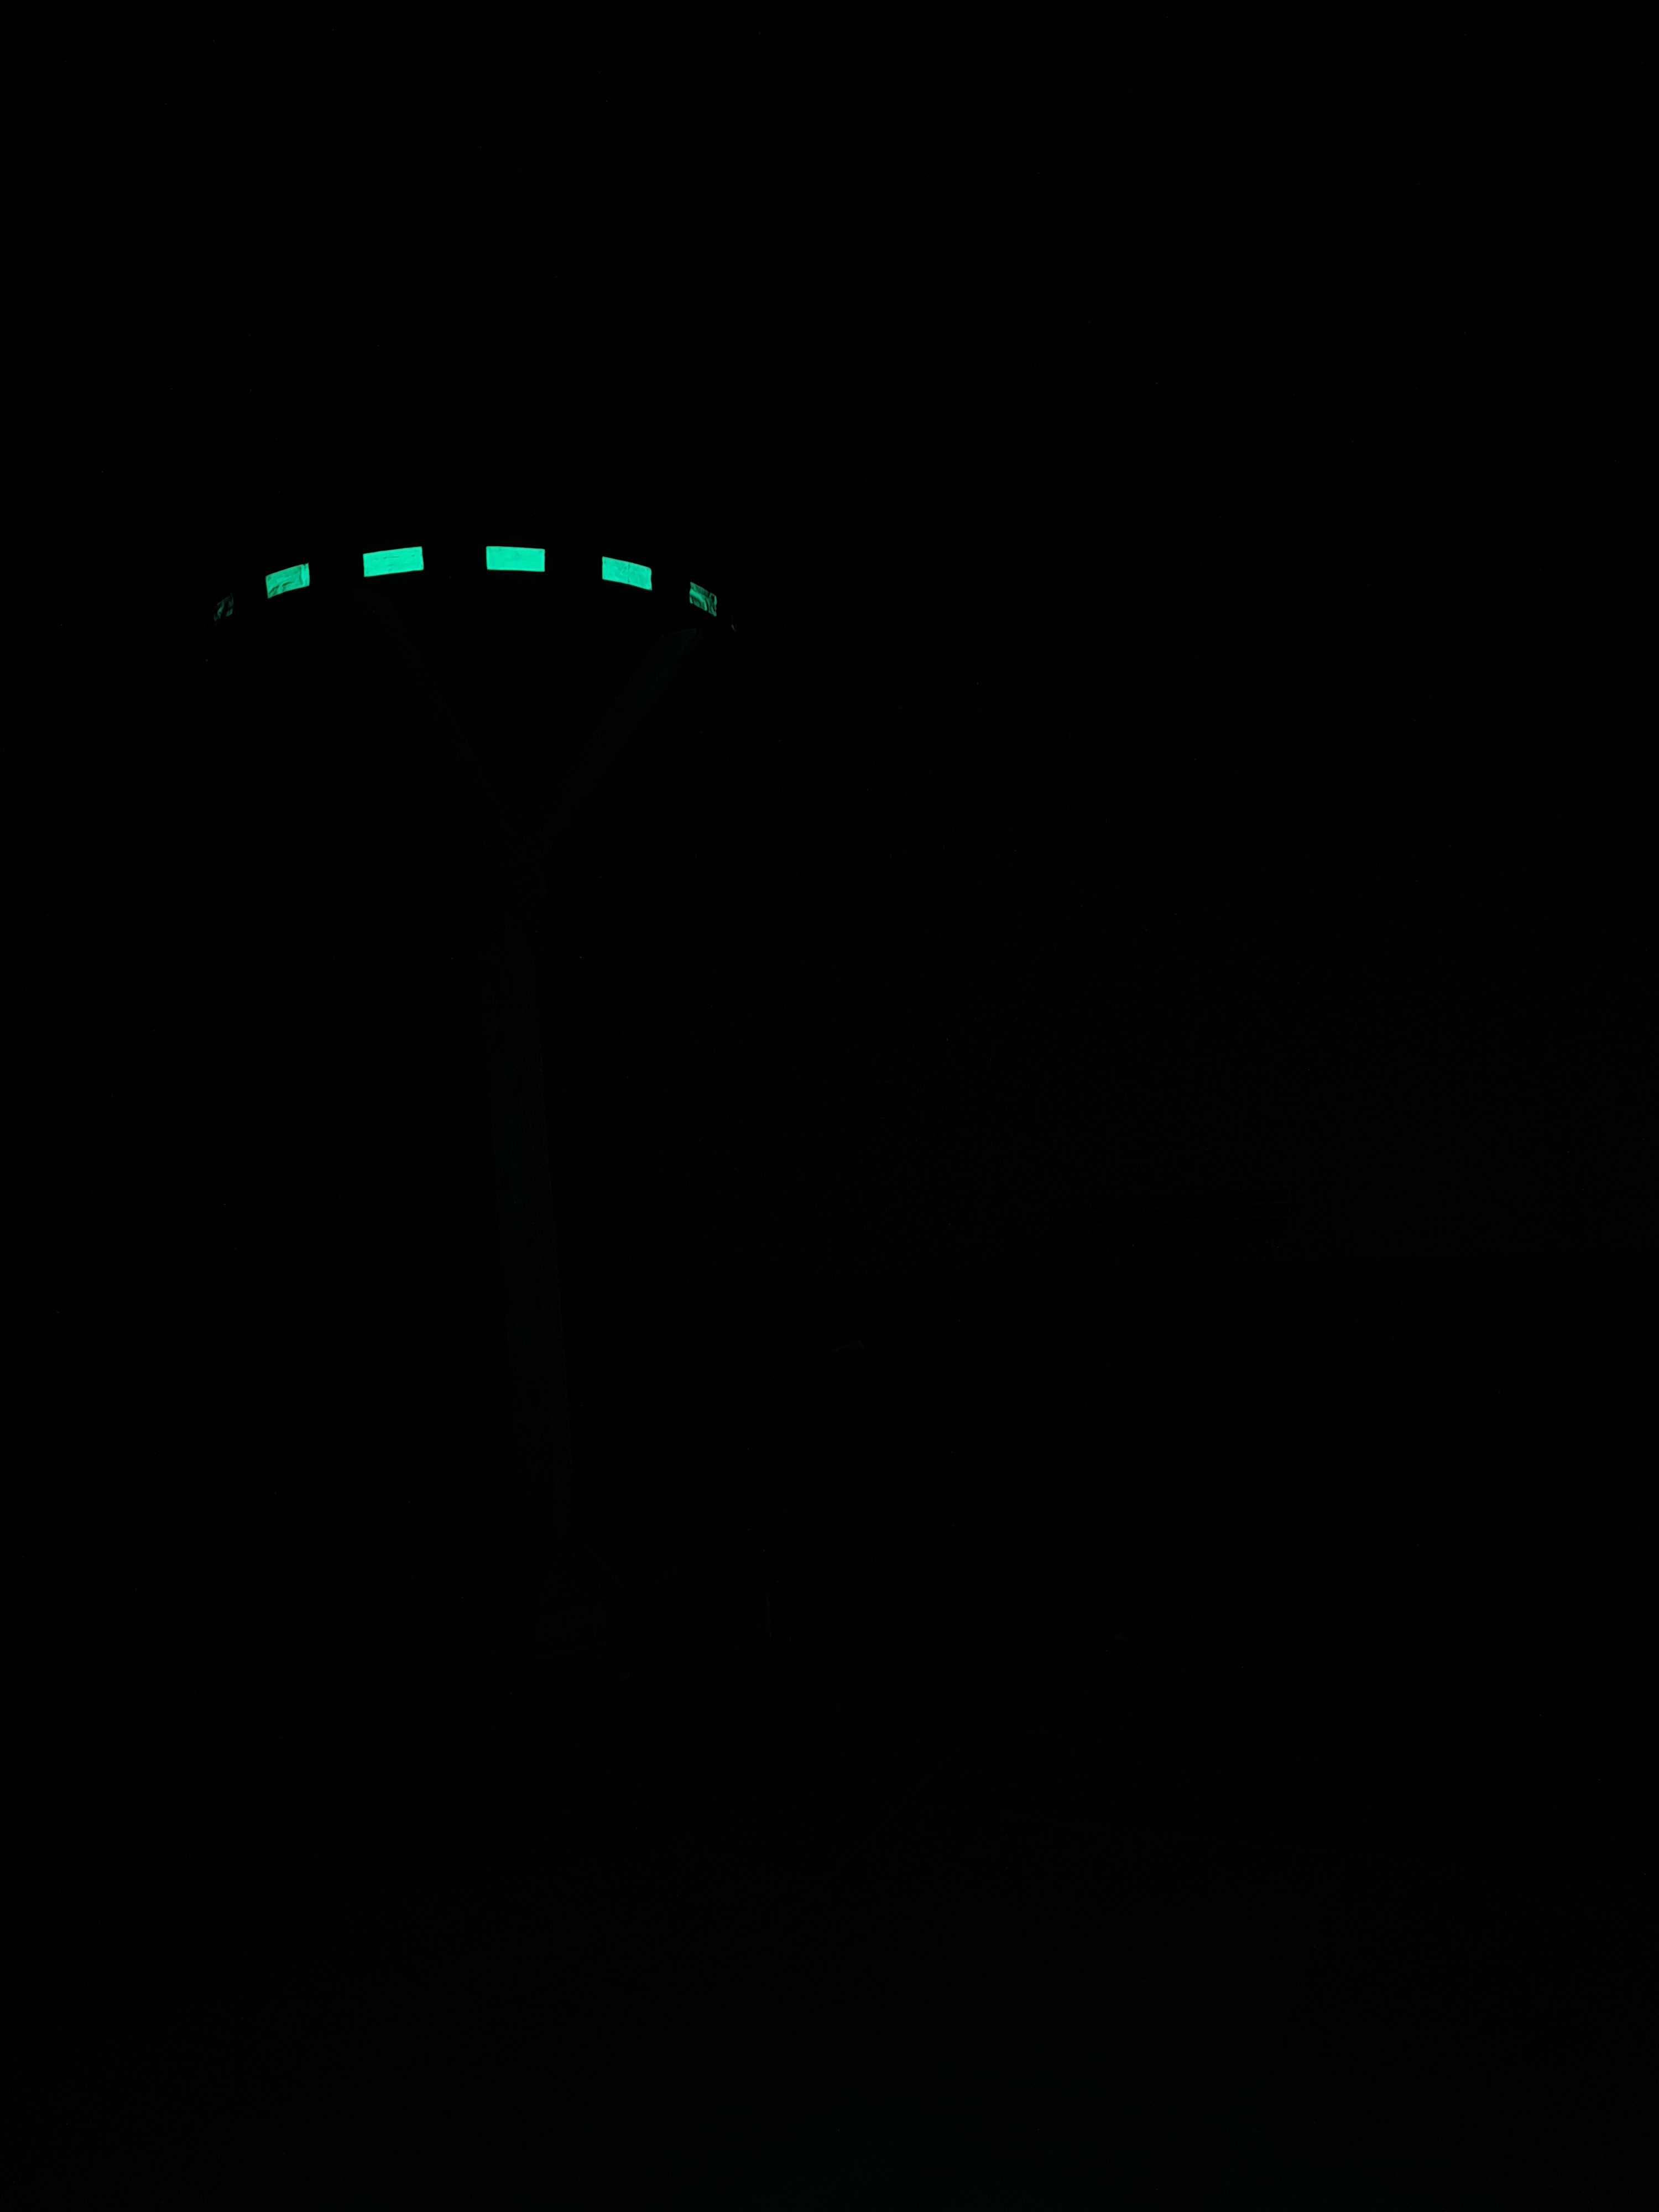hoop: (214, 549, 725, 651)
